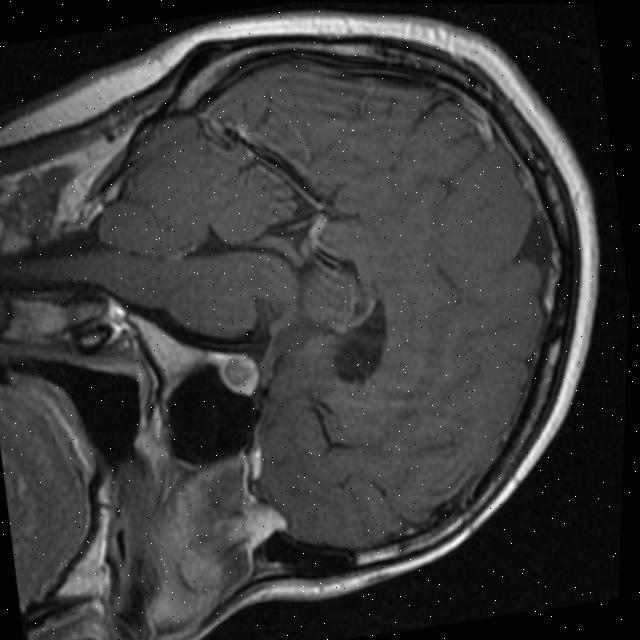Pituitary: (213, 349, 264, 402)
